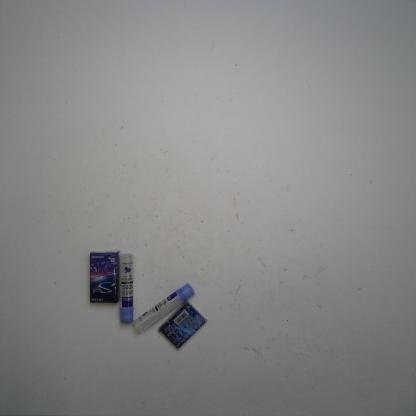Gum: (158, 300, 208, 350), (89, 250, 120, 304)
Stationery: (133, 282, 195, 332), (119, 253, 134, 324)
